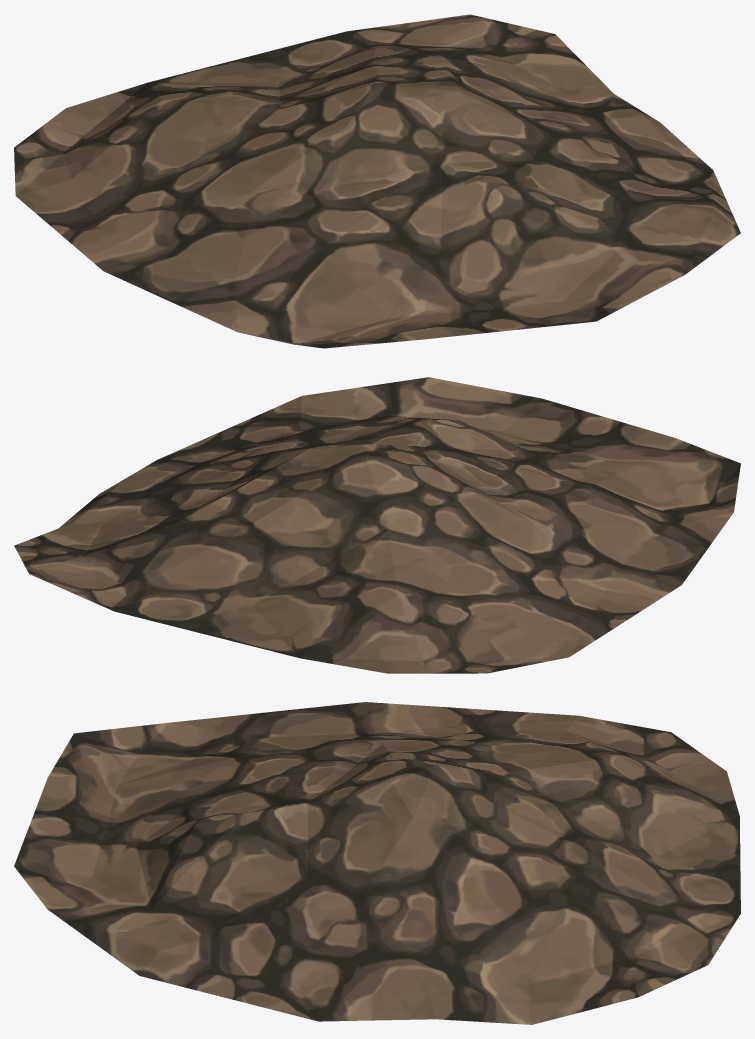
Rendered from trash-floor-1.fbx.
3 views of the same model, one above another, from view 1: azimuth 30°, elevation 25°; view 2: azimuth 150°, elevation 25°; view 3: azimuth 270°, elevation 25° (orthographic). The views are drawn at different scales.
Parts seen in each view (by area): view 1: trash-floor; view 2: trash-floor; view 3: trash-floor.
Part boxes in pixels (x1,y1,x2,y2): trash-floor: (14, 14, 740, 348); trash-floor: (14, 377, 740, 673); trash-floor: (14, 702, 740, 1024).
Bounding box in the file's own units: 2.02 × 0.3699 × 2.09.
